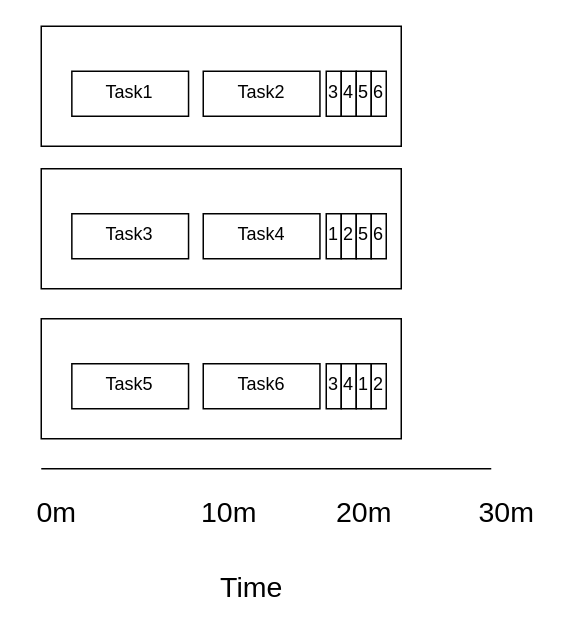
Some shapes in this 569 by 638 pixel diagram are drawn without their labels. The box of each missing label's shape, as (x1, y1, x2, y2) in pixels:
Peer1: (40, 25, 401, 146)
Peer2: (40, 167, 401, 289)
Peer3: (40, 317, 401, 439)
